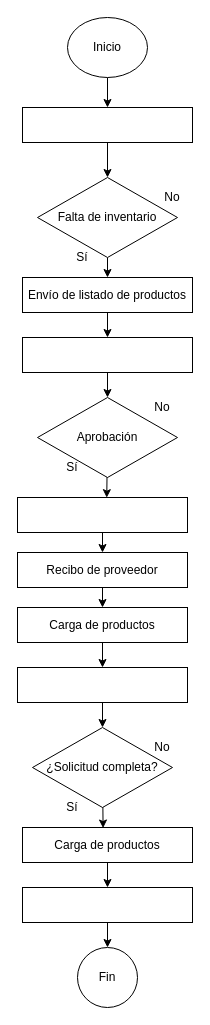
Some shapes in this 210 by 1025 pixel diagram are drawn without their labels. Each missing label, with the centre of its shape:
"Comprobación de productos" belongs at (x=102, y=684).
"Envió de orden" belongs at (x=102, y=514).
"Pago de proveedores" belongs at (x=107, y=904).
"Verificación de productos" belongs at (x=107, y=124).
"Verificación de solicitud" belongs at (x=107, y=354).
